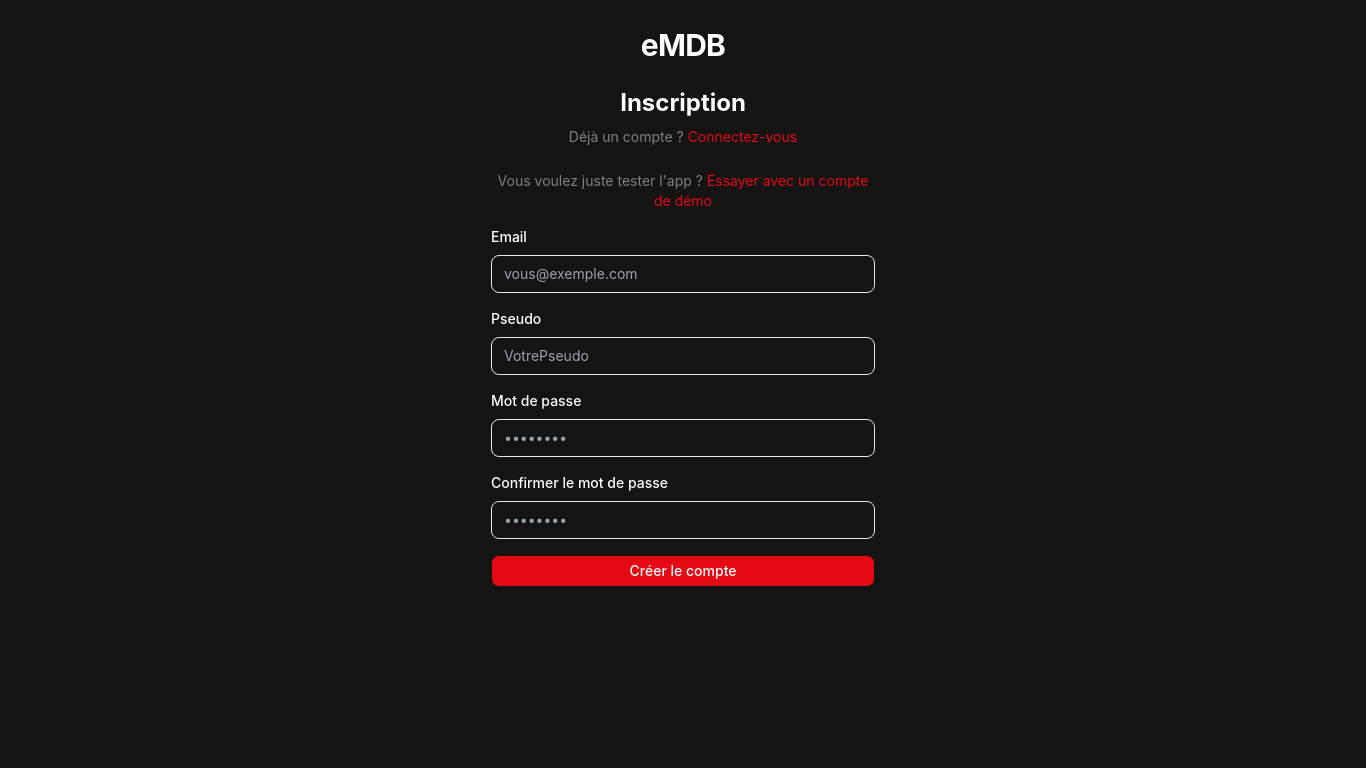
Scenario: Authentication — Register › affiche une erreur 409 pour email existant
Type "existing@test.com" into the field named "email".
click(683, 274); type("existing@test.com")  # box [491,255,875,293]
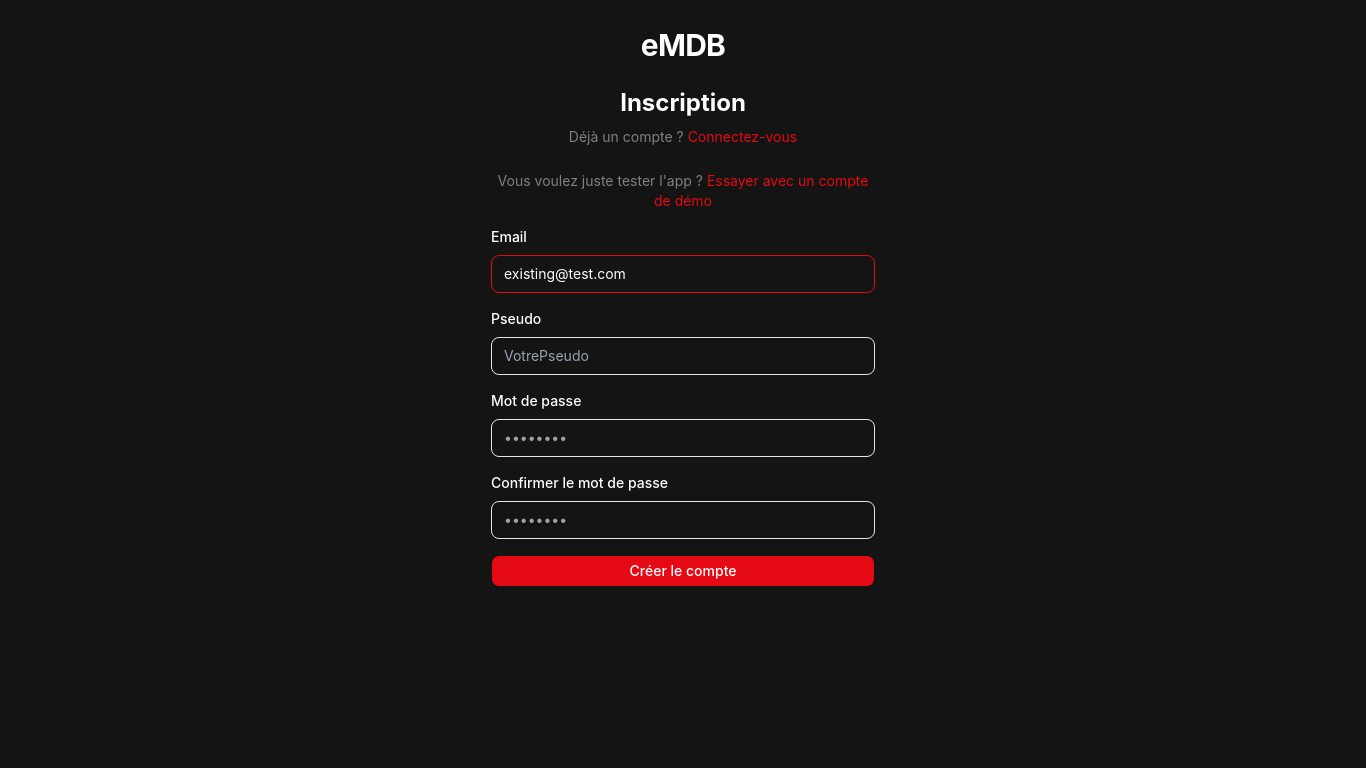
Type "TestUser" into the field named "pseudo".
click(683, 356); type("TestUser")  # box [491,337,875,375]
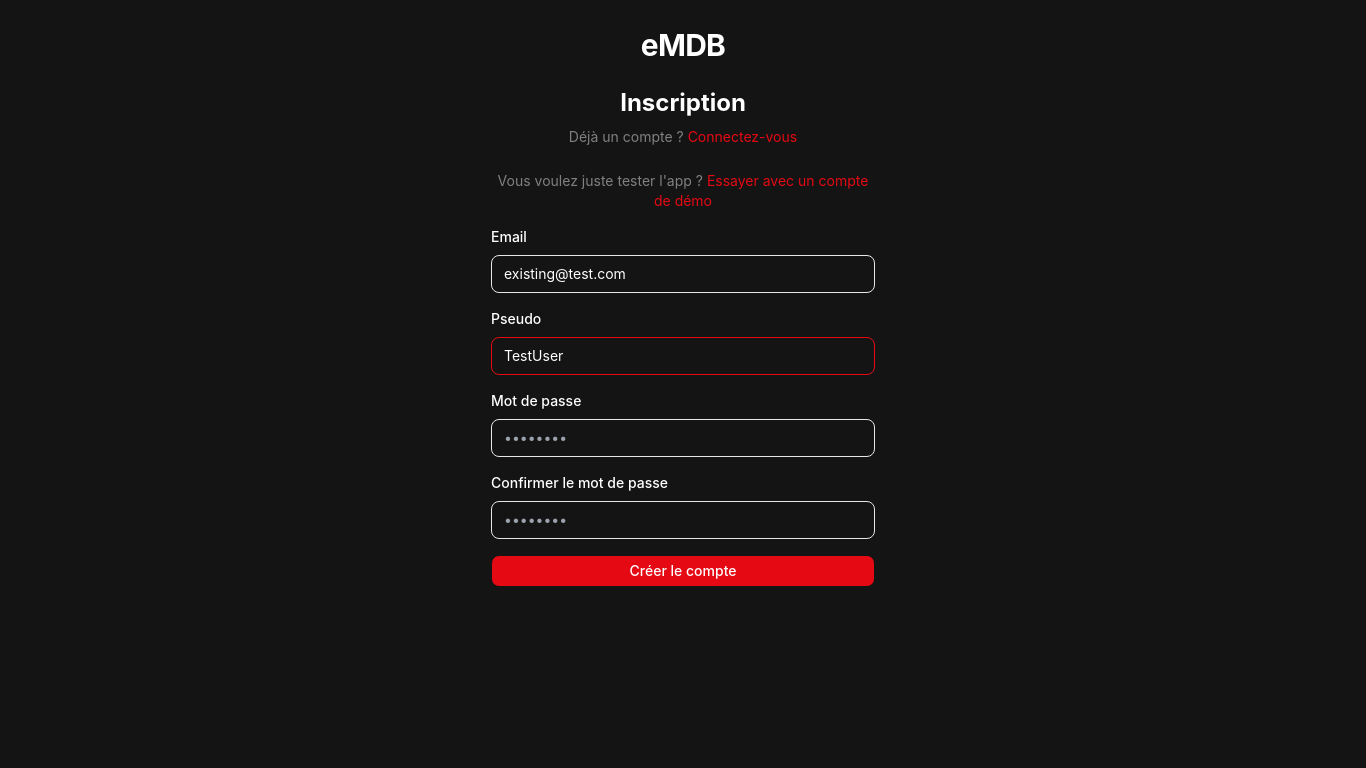
Type "password123" into the password field named "password".
click(683, 438); type("password123")  # box [491,419,875,457]
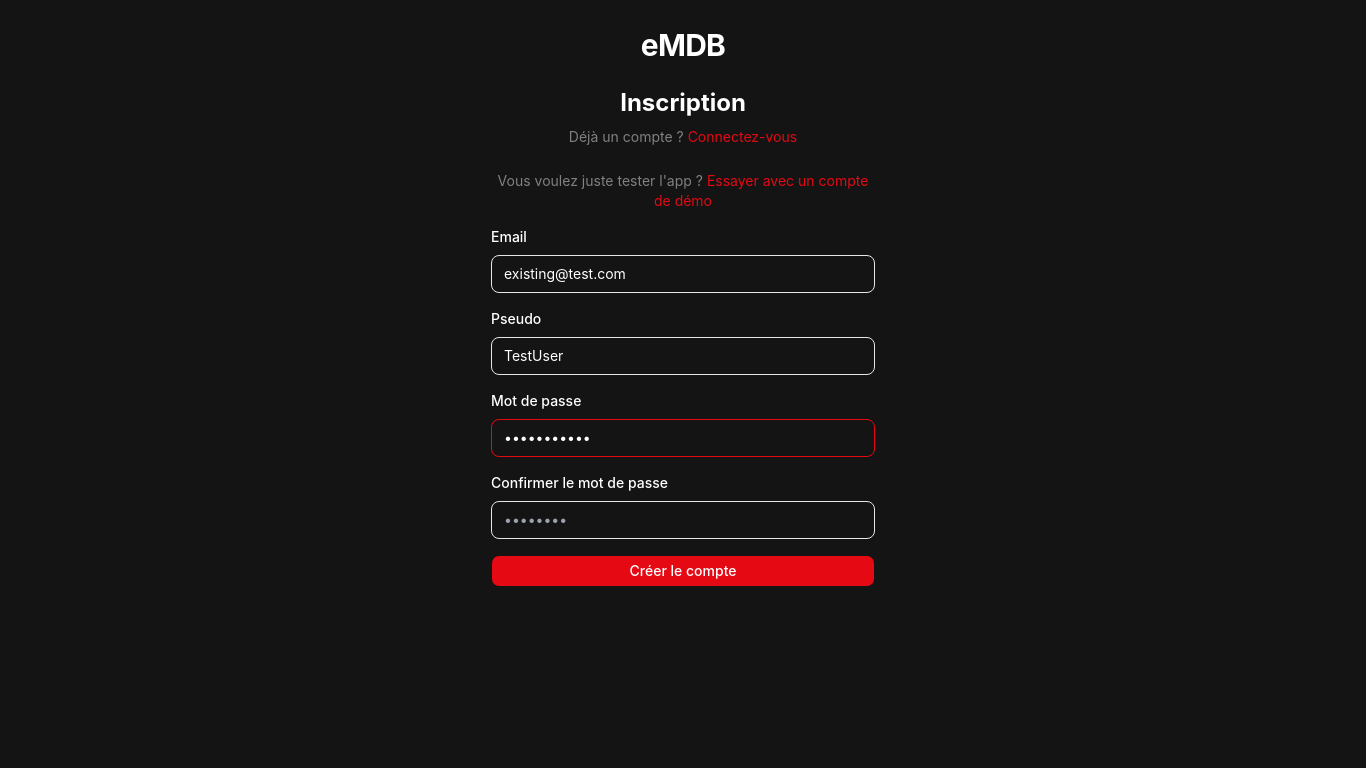
Type "password123" into the password field named "confirmPassword".
click(683, 520); type("password123")  # box [491,501,875,539]
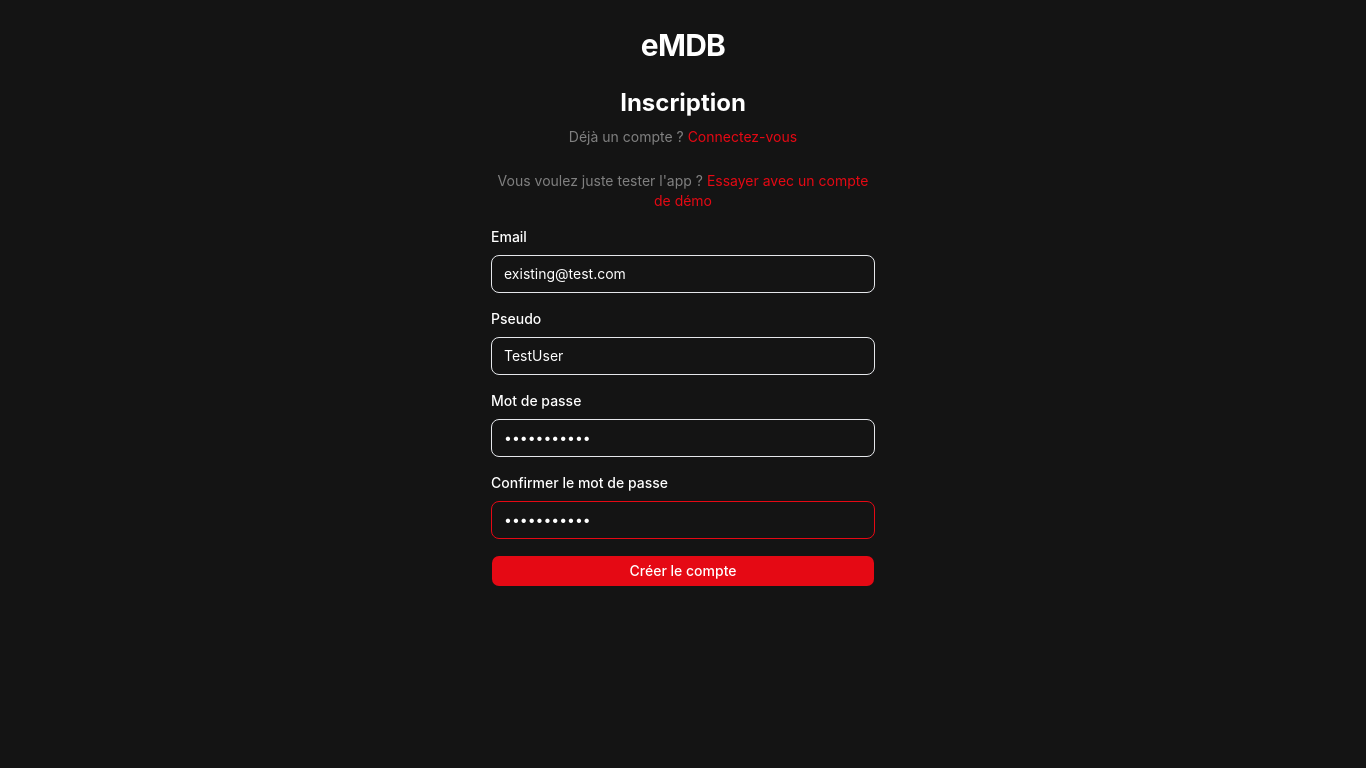
Click the button "Créer le compte".
click(683, 571)  # box [491,555,875,587]
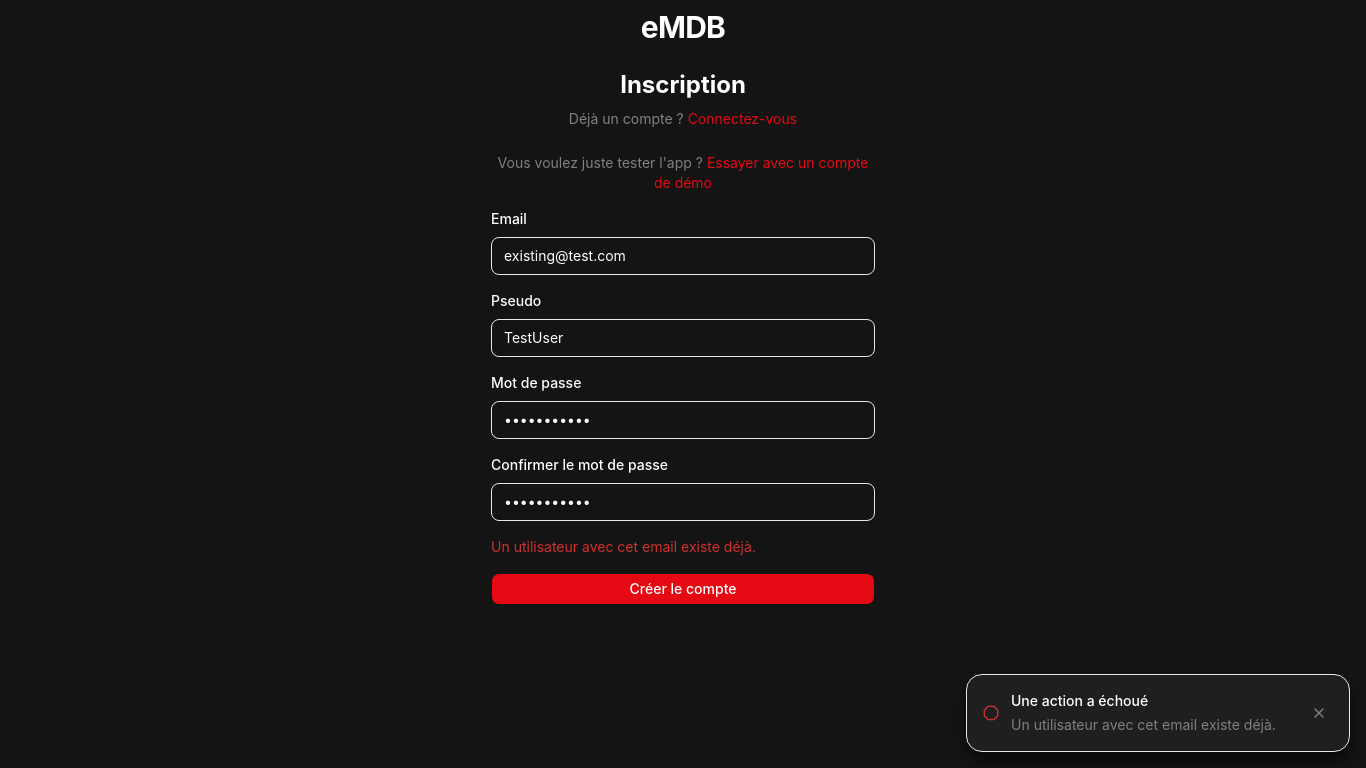
Check: the text "Un utilisateur avec cet email existe déjà." below "Confirmer le mot de passe" is shown, box [491,538,756,555]
